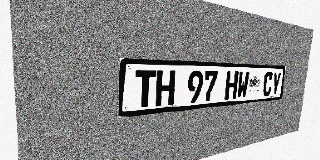7: (202, 71, 218, 102)
9: (187, 71, 204, 103)
C: (262, 72, 273, 96)
H: (155, 70, 175, 106), (224, 71, 239, 100)
T: (134, 70, 156, 108)
W: (236, 72, 249, 99)
Y: (271, 72, 281, 95)
